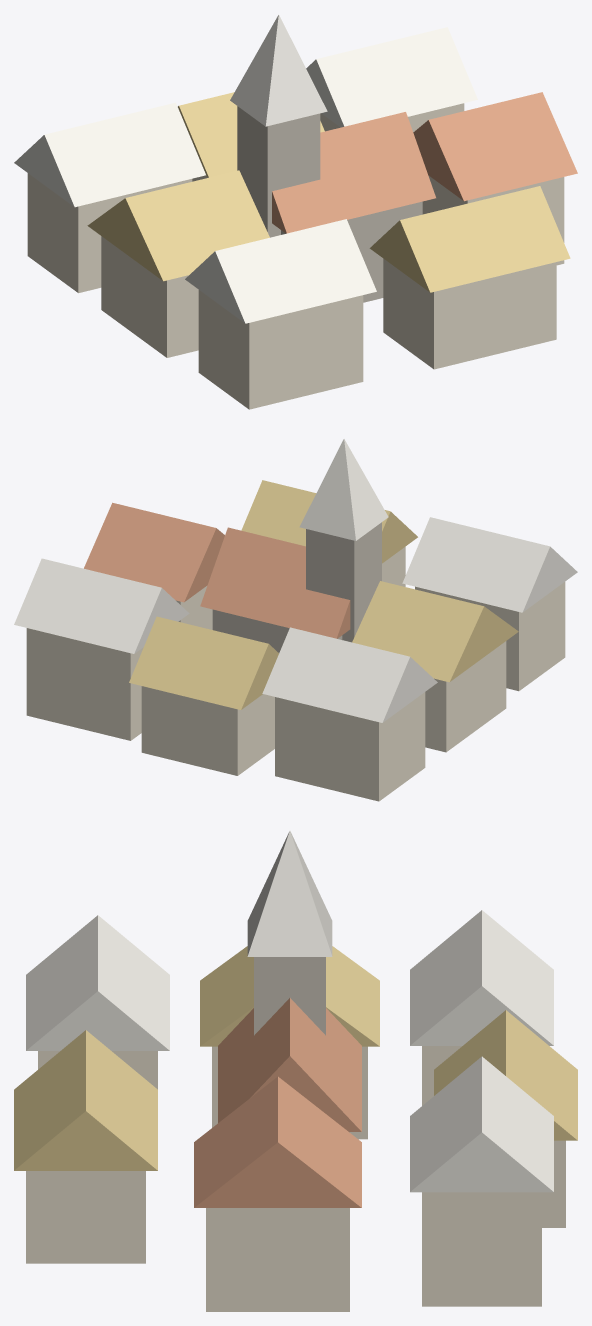
Rendered from town.glb.
3 renders of one model, top to bottom at view 1: azimuth 30°, elevation 25°; view 2: azimuth 150°, elevation 25°; view 3: azimuth 270°, elevation 25°, orthographic. The views are drawn at different scales.
Visible parts, largest first — view 1: town; view 2: town; view 3: town.
Boxes of the visible parts, x1,y1,x2,y2 form: town: (14,14,577,409); town: (14,439,577,801); town: (14,831,577,1311).
Size of the model in its own units: 0.94 by 0.62 by 0.94.
